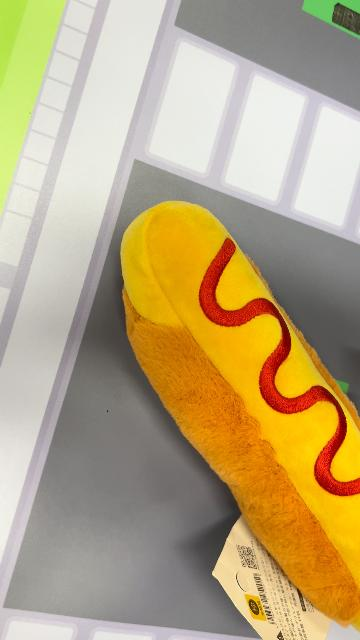hotdog: (120, 198, 358, 630)
